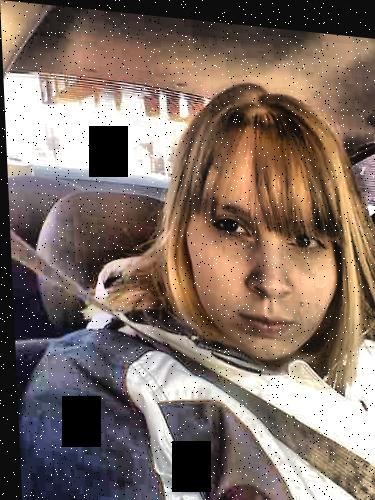seatbelt: (22, 234, 370, 485)
